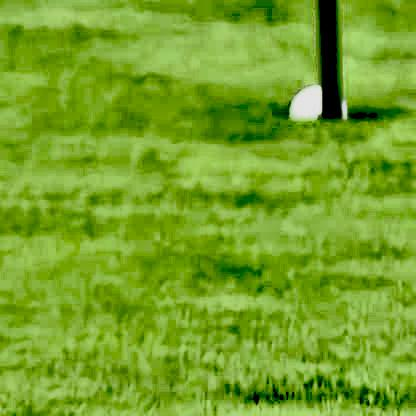golfball: (283, 92, 345, 129)
